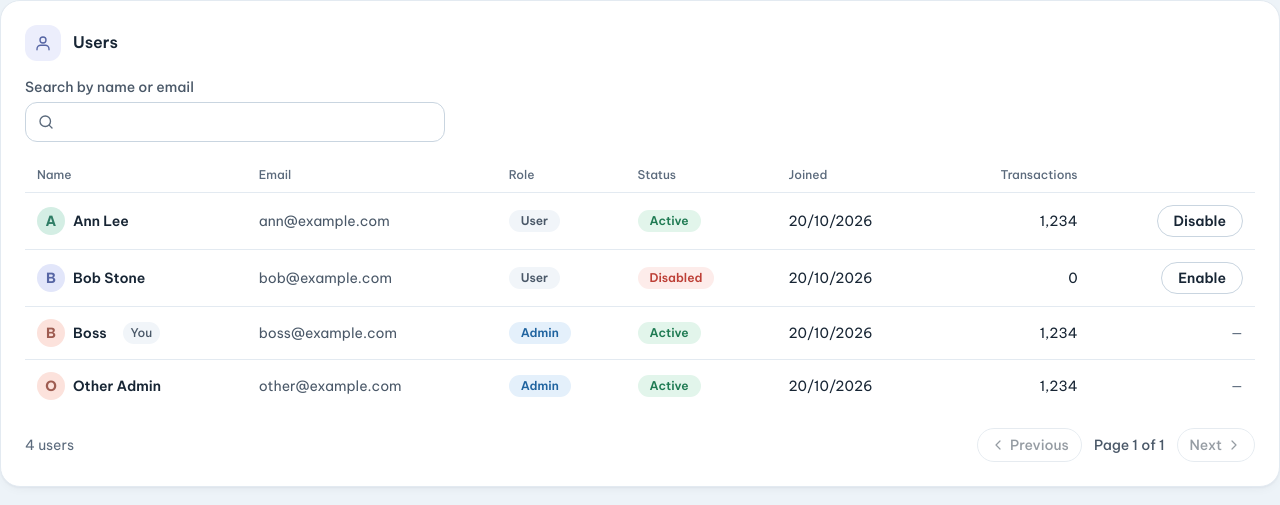
Test case: UsersTable › searches after the typing stopped, starting on the first page
The width and height of the screenshot is (1280, 505).
Expected: the text "Ann Lee" is shown, [73,210,129,232]
Type "ann" into the search field labelled "Search by name or email".
click(235, 122); type("ann")  # box [25,102,445,142]
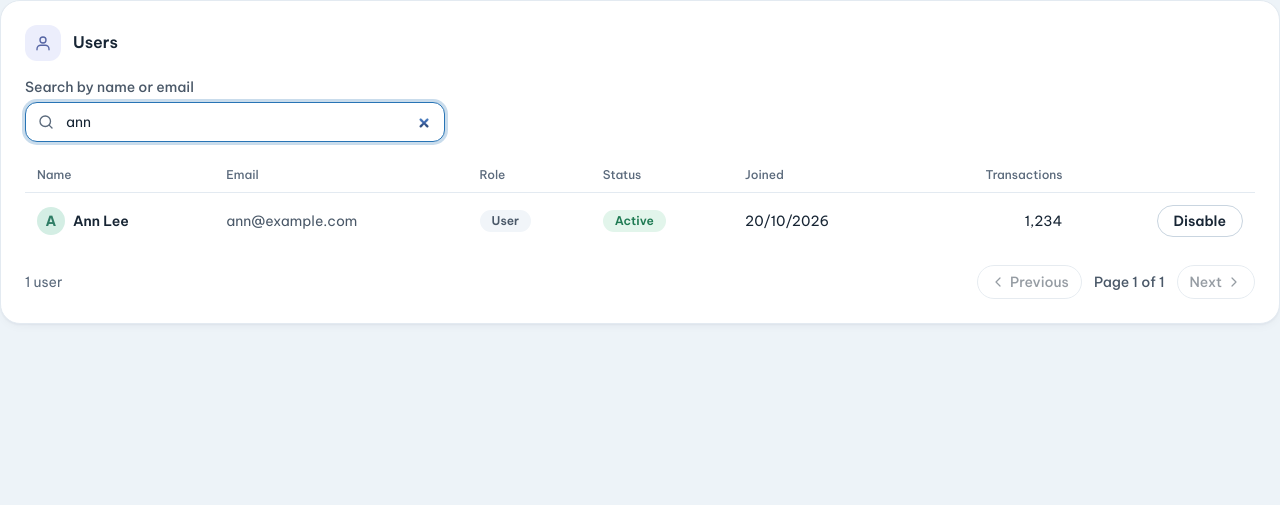
Now the text "Bob Stone" is gone
